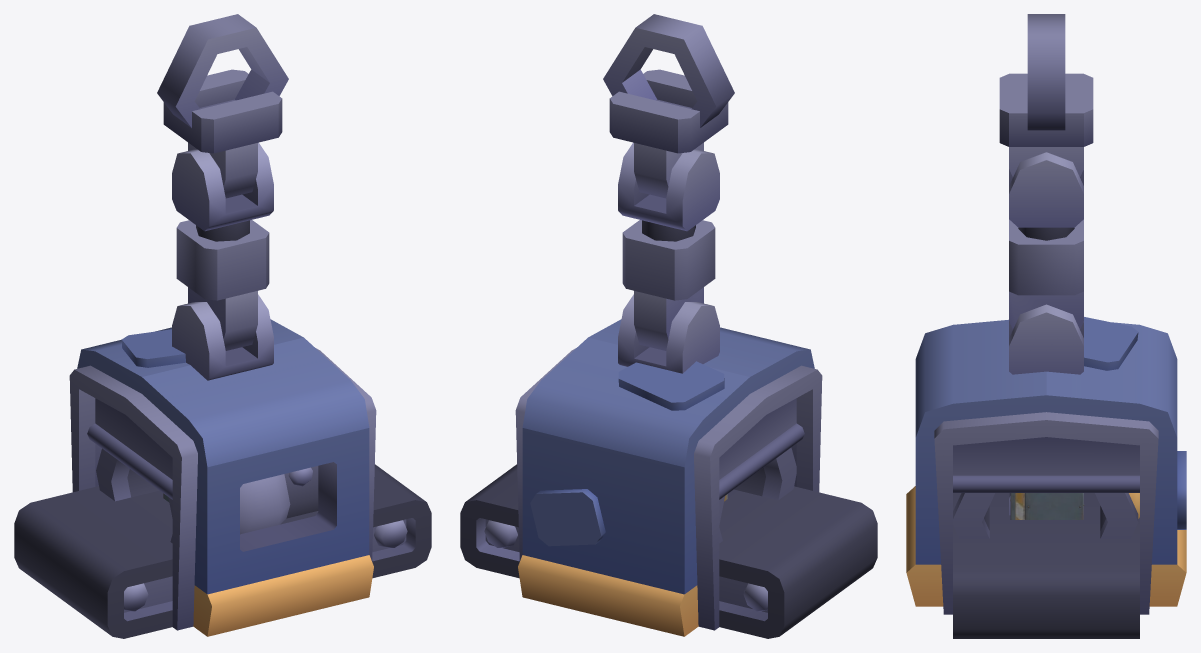
Rendered from loto.glb.
3 renders of one model, left to right at view 1: azimuth 30°, elevation 25°; view 2: azimuth 150°, elevation 25°; view 3: azimuth 270°, elevation 25°, orthographic.
Visible parts, largest first — view 1: machine, conveyor-long, element-d, element-f, pipe-large-valve, element-e, element-c, claw-b, claw-a; view 2: machine, conveyor-long, element-d, element-f, element-e, element-c, claw-b, claw-a, pipe-large-valve; view 3: machine, conveyor-long, element-d, element-f, element-e, element-c, claw-a, pipe-large-valve, utility_box_01_box, claw-b.
Part boxes in pixels (<box>): machine: <box>69,319,376,636</box>; conveyor-long: <box>14,464,431,638</box>; element-d: <box>176,220,269,350</box>; element-f: <box>163,69,282,198</box>; pipe-large-valve: <box>96,448,318,543</box>; element-e: <box>172,142,273,231</box>; element-c: <box>172,294,273,380</box>; claw-b: <box>157,20,232,127</box>; claw-a: <box>214,14,288,100</box>; machine: <box>515,319,822,636</box>; conveyor-long: <box>460,464,877,638</box>; element-d: <box>622,220,715,350</box>; element-f: <box>609,69,728,198</box>; element-e: <box>618,142,719,231</box>; element-c: <box>618,294,719,373</box>; claw-b: <box>659,20,734,127</box>; claw-a: <box>603,14,677,100</box>; pipe-large-valve: <box>719,447,796,543</box>; machine: <box>906,317,1186,614</box>; conveyor-long: <box>953,493,1139,638</box>; element-d: <box>1009,219,1083,329</box>; element-f: <box>999,73,1093,176</box>; element-e: <box>1009,152,1083,227</box>; element-c: <box>1009,304,1083,374</box>; claw-a: <box>1027,26,1065,130</box>; pipe-large-valve: <box>953,493,1139,538</box>; utility_box_01_box: <box>1010,493,1084,519</box>; claw-b: <box>1027,14,1065,25</box>.
Bounding box in the file's own units: 2.8 × 4.48 × 2.1.
Materials: 8 (3 with a texture image).
